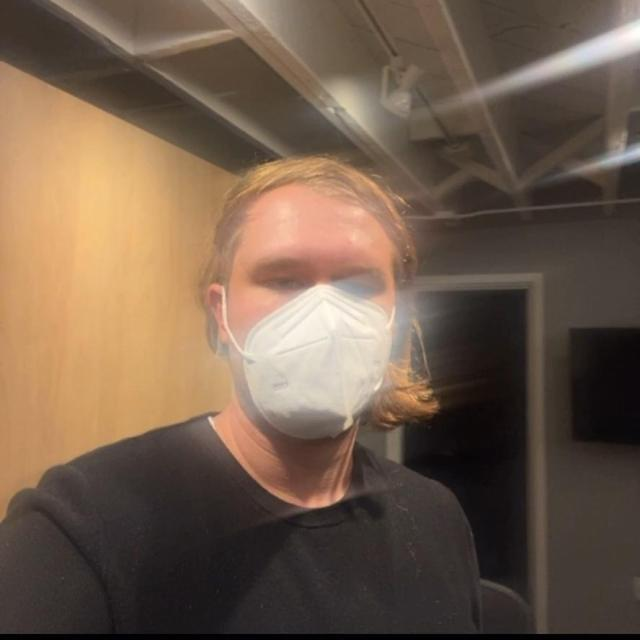no hat: (192, 134, 442, 442)
